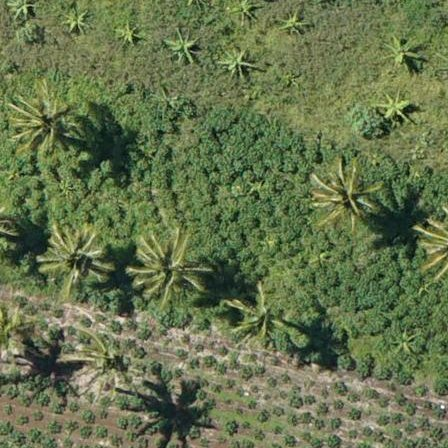palm_tree: (131, 231, 205, 309), (38, 214, 110, 290), (10, 87, 83, 161), (310, 163, 377, 227), (229, 287, 295, 351), (73, 328, 133, 386)
